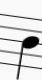B: (14, 6, 39, 80)
